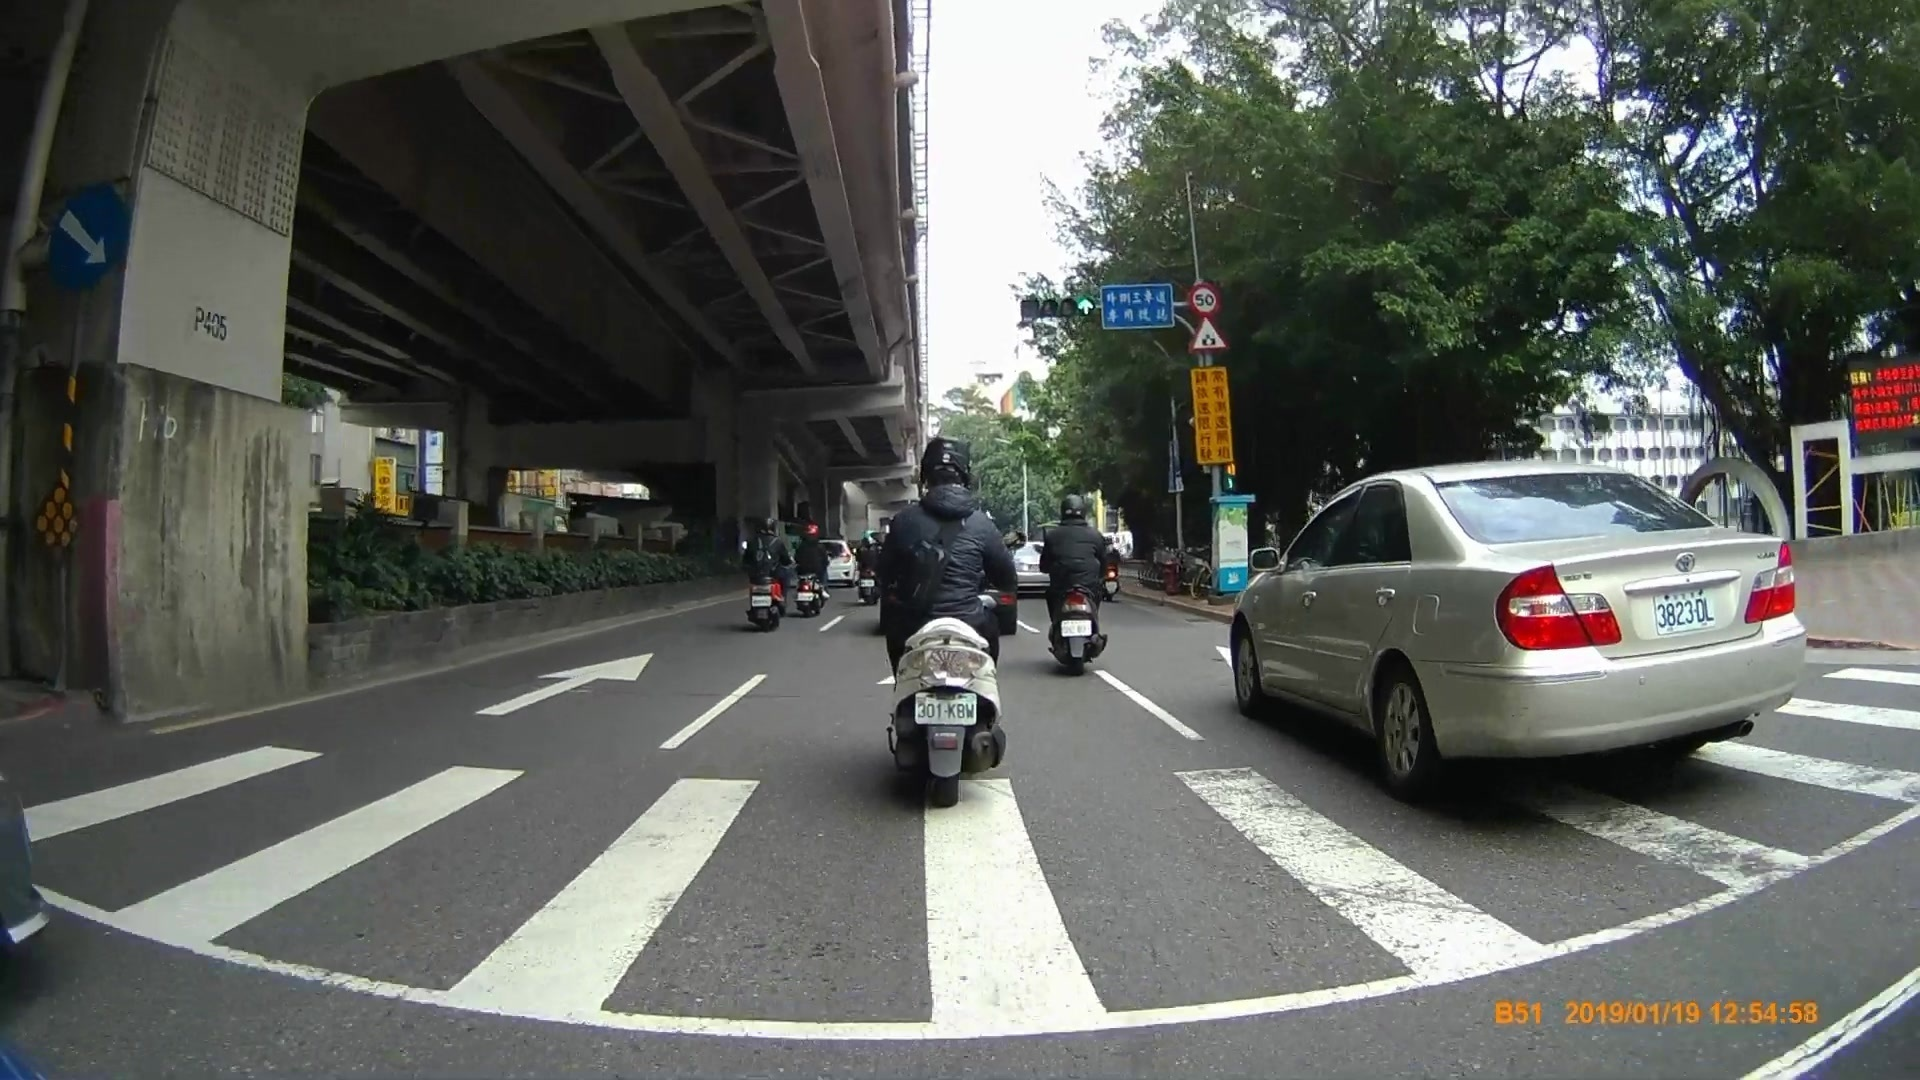License_plate: (1655, 588, 1715, 631), (918, 689, 980, 728), (1058, 617, 1097, 637)
